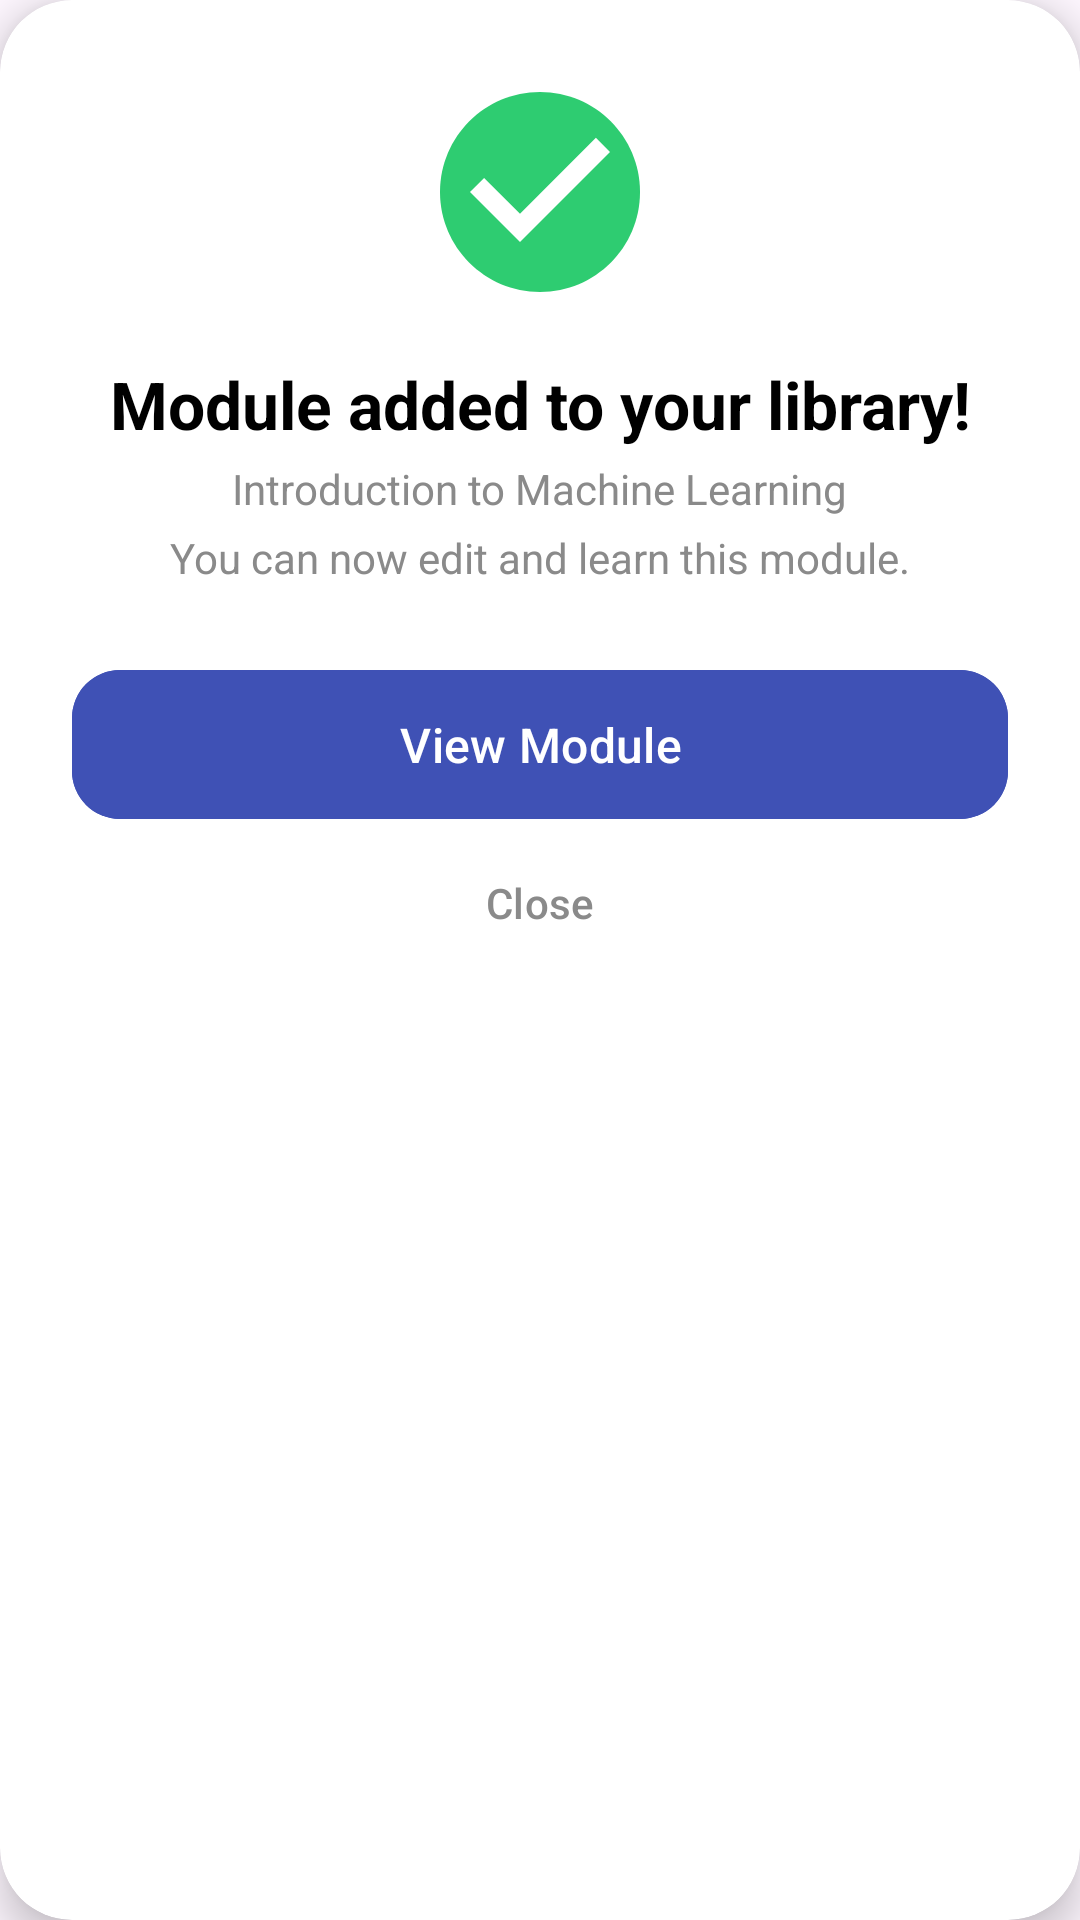

Icon bounding boxes for this 1080*1920 phone screenshot, format (x1, y1, x2, y2):
check circle: (440, 92, 640, 292)
